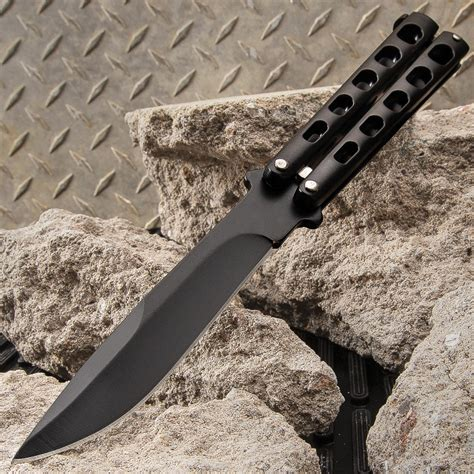knife: (10, 10, 467, 464)
